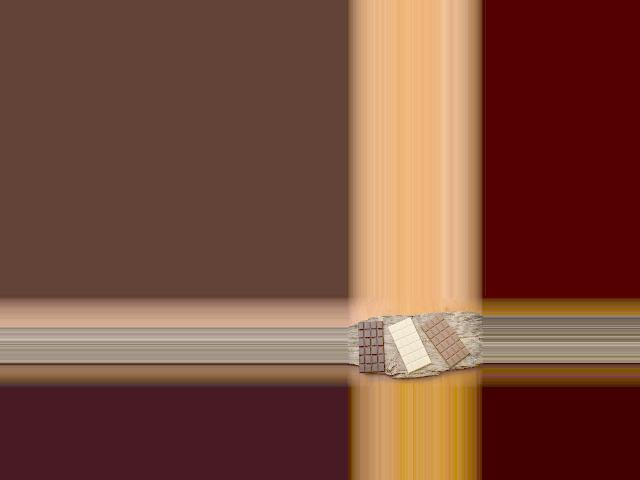chocolate: (357, 321, 384, 373)
